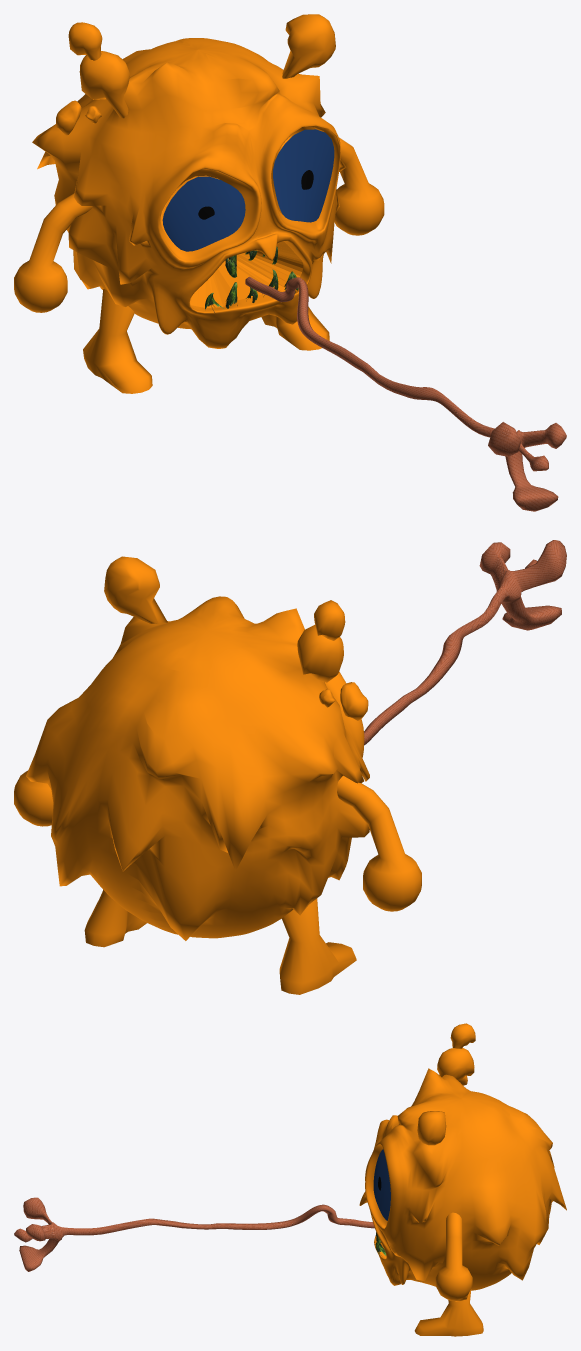
Rendered from Blob_Forme2.fbx.
3 views of the same model, one above another, from view 1: azimuth 30°, elevation 25°; view 2: azimuth 150°, elevation 25°; view 3: azimuth 270°, elevation 25° (orthographic). The views are drawn at different scales.
Parts seen in each view (by area): view 1: Blob Forme 002 Dash; view 2: Blob Forme 002 Dash; view 3: Blob Forme 002 Dash.
Boxes of the visible parts, x1,y1,x2,y2 form: Blob Forme 002 Dash: (14,14,566,511); Blob Forme 002 Dash: (14,540,566,994); Blob Forme 002 Dash: (14,1023,566,1336).
Bounding box in the file's own units: 331 × 636 × 304.
5 materials, 2 textured.
